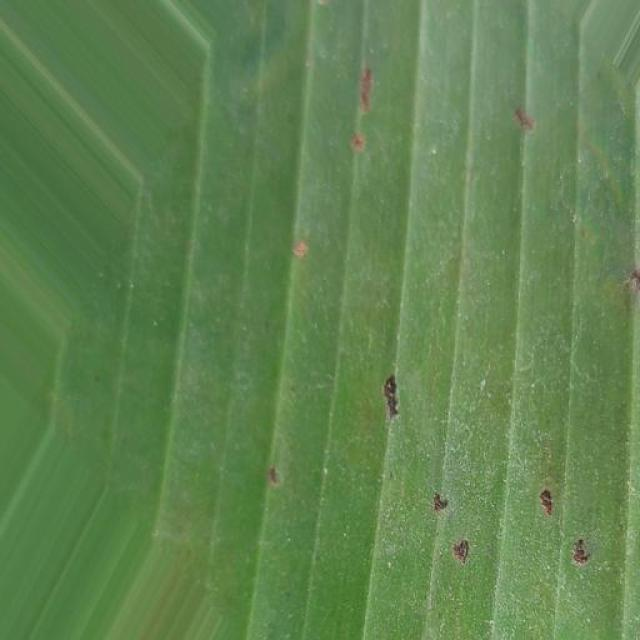Black_rot: (319, 53, 400, 183), (530, 469, 611, 573), (364, 339, 430, 452), (425, 476, 489, 590), (494, 75, 559, 167), (609, 242, 640, 303)
